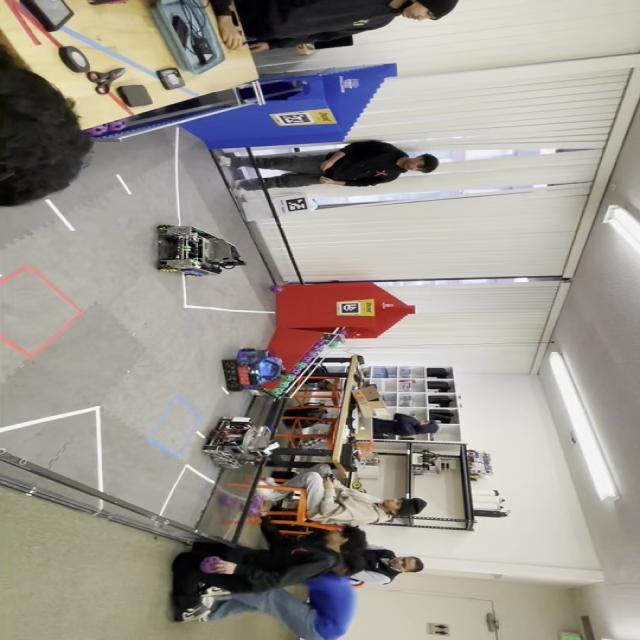artifact_purple: (200, 556, 220, 573), (85, 124, 109, 136), (220, 494, 238, 507), (108, 120, 127, 131), (251, 495, 261, 507), (248, 507, 260, 516), (270, 286, 283, 293)
